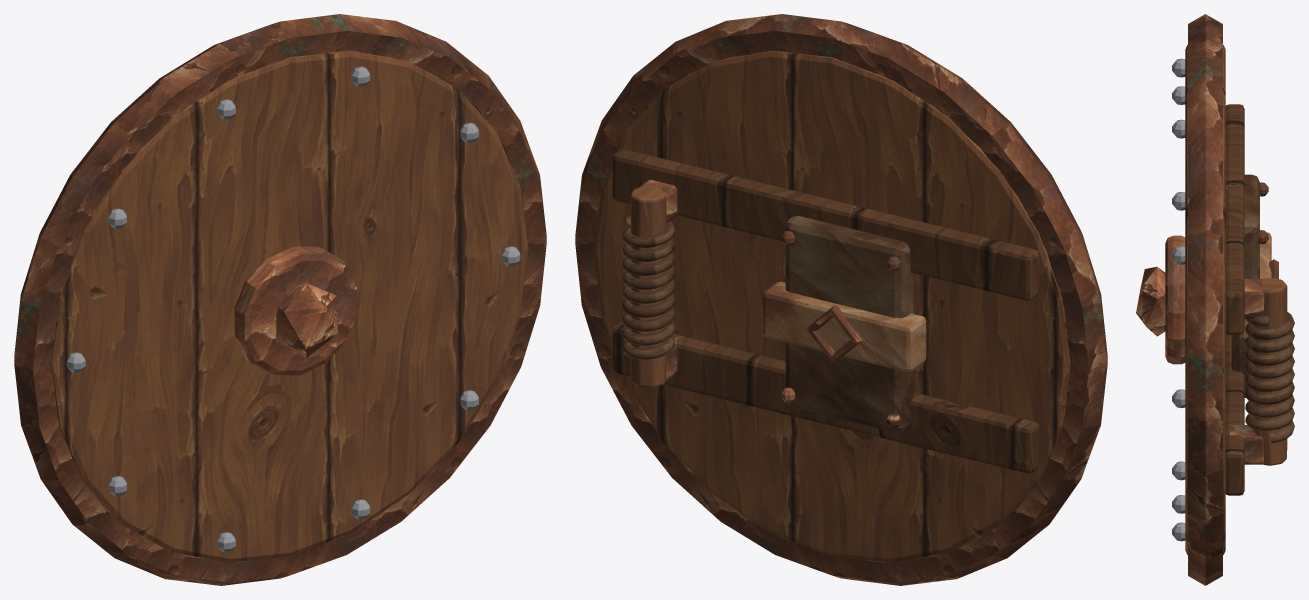
File: shield_copper.glb
The picture shows the model from 3 angles, left to right: view 1: azimuth 30°, elevation 25°; view 2: azimuth 150°, elevation 25°; view 3: azimuth 270°, elevation 25°; orthographic projection. The views are drawn at different scales.
Parts seen in each view (by area): view 1: model; view 2: model; view 3: model.
Part boxes in pixels (x1,y1,x2,y2): model: [14, 14, 546, 585]; model: [575, 14, 1107, 585]; model: [1136, 14, 1294, 585].
Bounding box in the file's own units: 0.71 × 0.71 × 0.1972.
8 materials, 7 textured.
